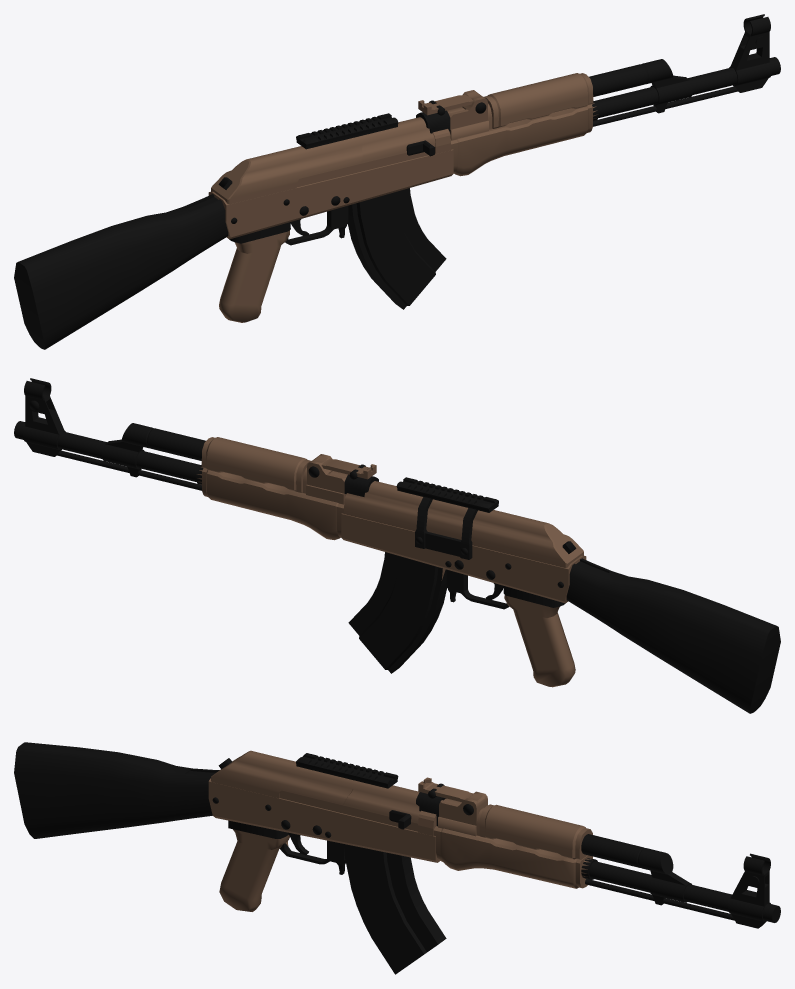
Rendered from Silah_1.fbx.
3 views of the same model, one above another, from view 1: azimuth 30°, elevation 25°; view 2: azimuth 150°, elevation 25°; view 3: azimuth 330°, elevation 25° (orthographic).
Visible parts, largest first — view 1: Ak_weapon; view 2: Ak_weapon; view 3: Ak_weapon.
Boxes of the visible parts, x1,y1,x2,y2 form: Ak_weapon: [14, 14, 780, 349]; Ak_weapon: [14, 378, 780, 713]; Ak_weapon: [14, 742, 780, 974].
Bounding box in the file's own units: 39.77 × 10.17 × 2.54.
